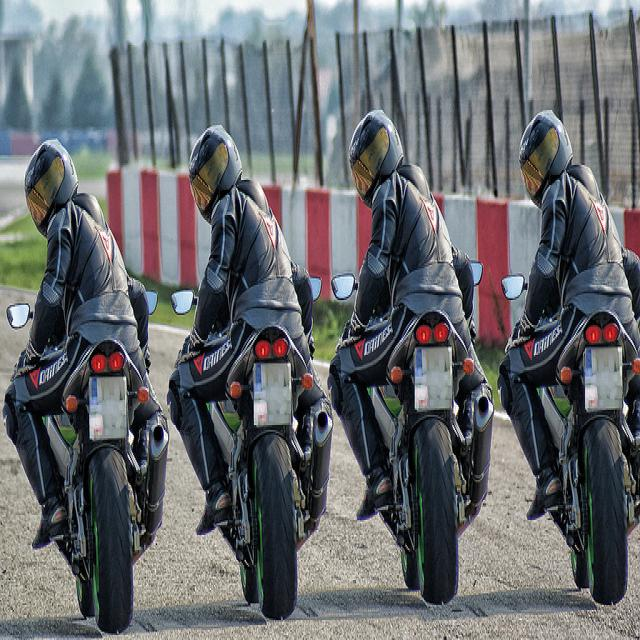motor: (367, 311, 495, 612), (205, 324, 333, 618), (40, 341, 168, 634), (541, 312, 640, 611)
